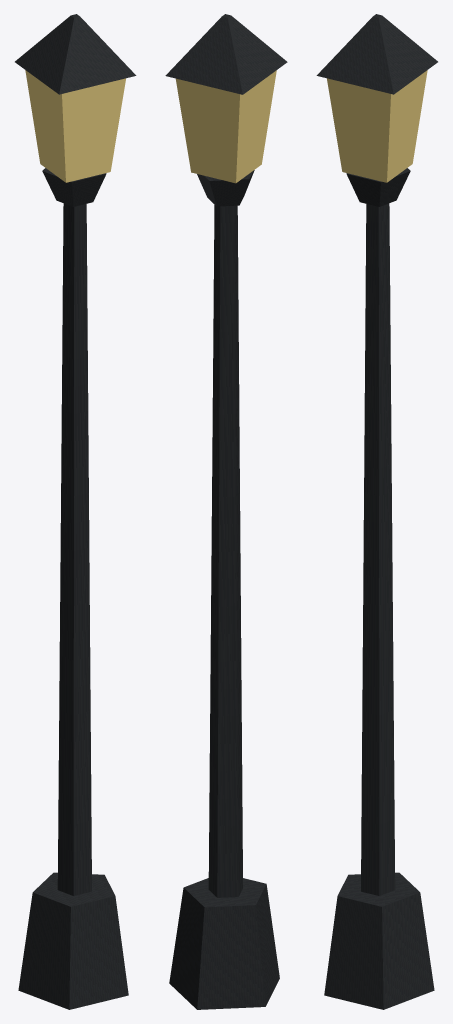
Rendered from street-lamp-lod1.glb.
The picture shows the model from 3 angles, left to right: view 1: azimuth 30°, elevation 25°; view 2: azimuth 150°, elevation 25°; view 3: azimuth 330°, elevation 25°; orthographic projection.
Visible parts, largest first — view 1: street-lamp-lod1; view 2: street-lamp-lod1; view 3: street-lamp-lod1.
Part boxes in pixels (x1,y1,x2,y2): street-lamp-lod1: (15, 14, 136, 1009); street-lamp-lod1: (165, 14, 287, 1009); street-lamp-lod1: (316, 14, 437, 1009).
Bounding box in the file's own units: 0.4565 × 4.4 × 0.4342.
Materials: 1 (1 with a texture image).
